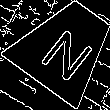N_NE: (33, 15, 98, 79)
